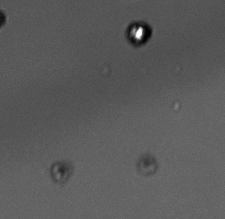Dead Cell: (138, 154, 157, 175), (51, 162, 69, 182)
Living Cell: (127, 22, 152, 46)
